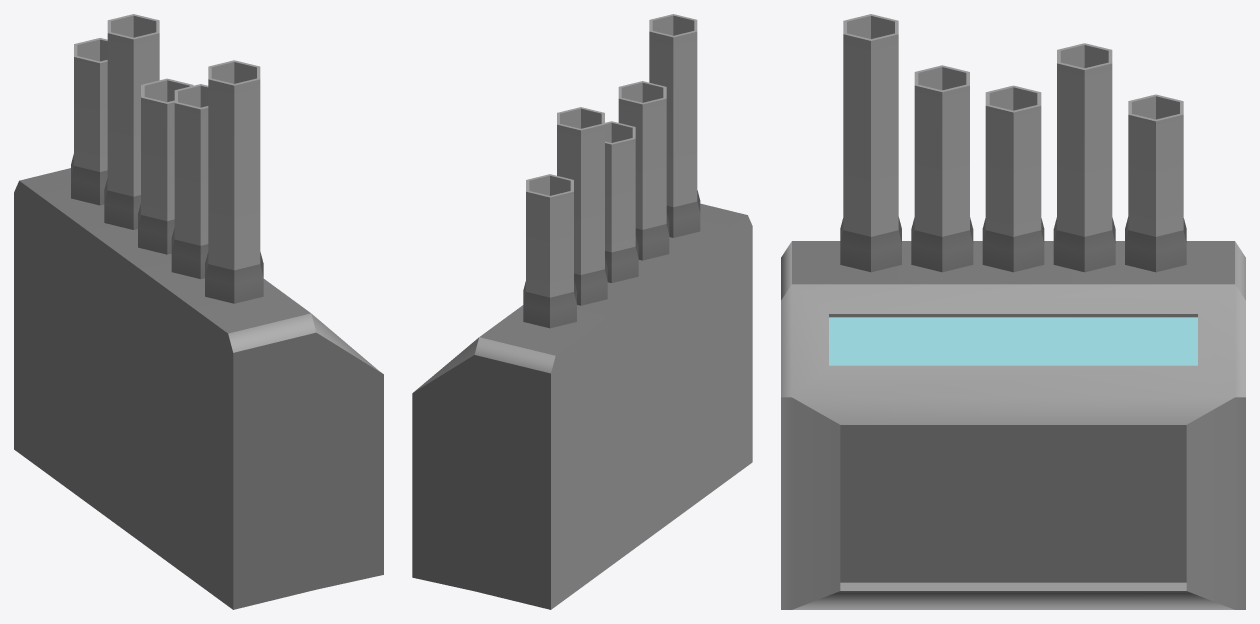
The model's file is wall Vent.fbx.
3 views of the same model, side by side, from view 1: azimuth 30°, elevation 25°; view 2: azimuth 150°, elevation 25°; view 3: azimuth 270°, elevation 25° (orthographic). The views are drawn at different scales.
Visible parts, largest first — view 1: Vent_system; view 2: Vent_system; view 3: Vent_system.
Boxes of the visible parts, x1=… form: Vent_system: x1=14, y1=14, x2=383, y2=609; Vent_system: x1=412, y1=14, x2=752, y2=609; Vent_system: x1=781, y1=14, x2=1245, y2=609.
Size of the model in its own units: 16.41 by 49.02 by 39.2.
